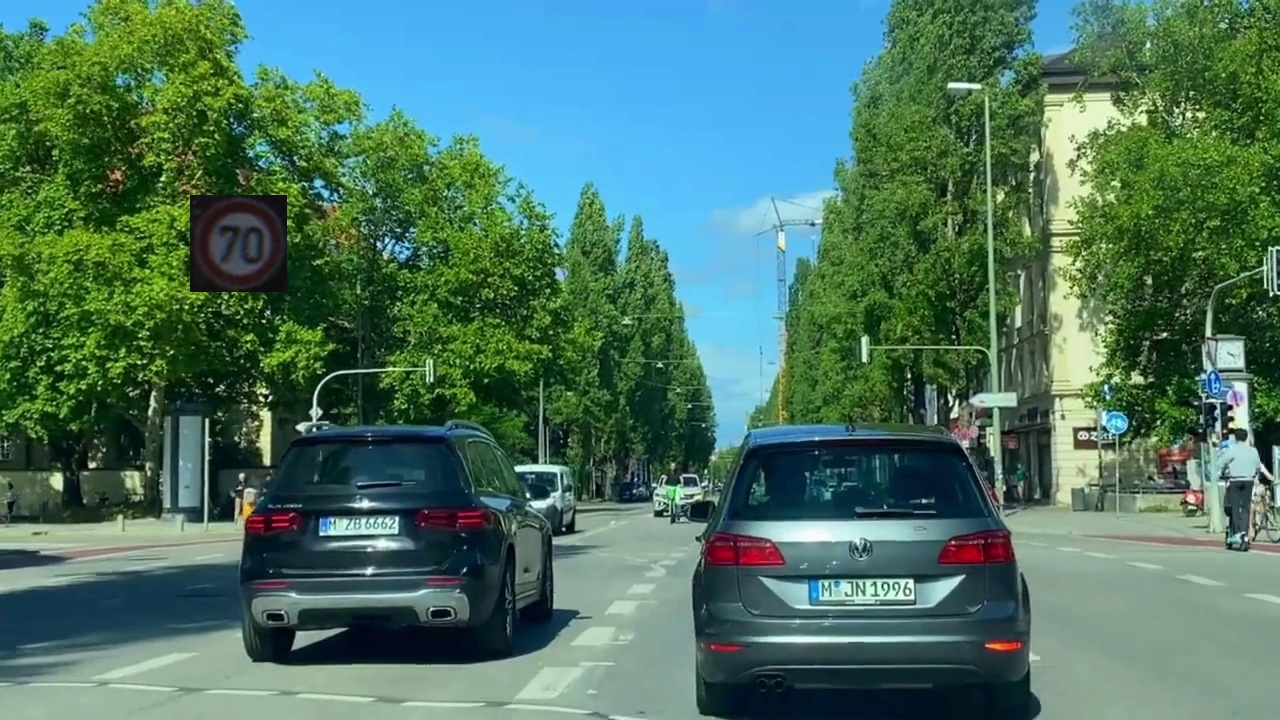Speed 70: (190, 195, 287, 292)
